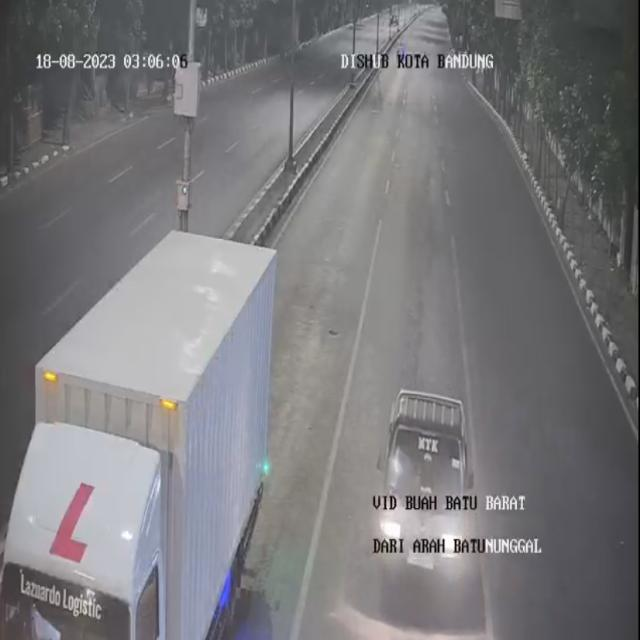cars: (380, 366, 478, 622)
truck: (0, 227, 286, 640)
